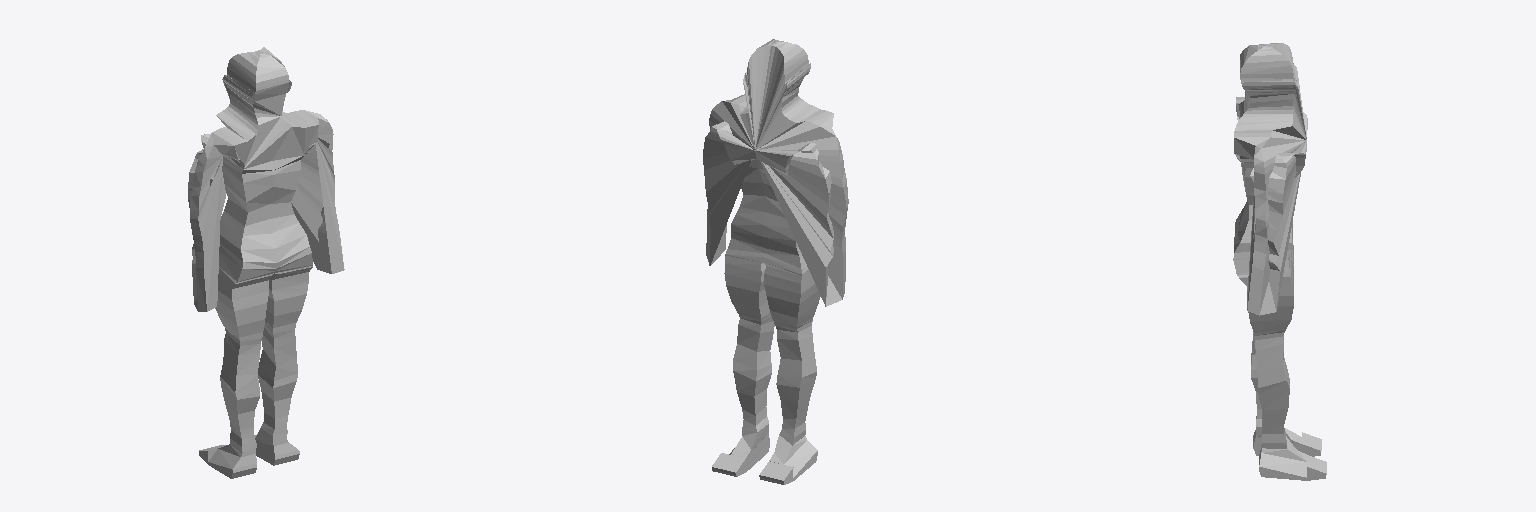
Rendered from woman_000044.obj.
3 renders of one model, left to right at view 1: azimuth 30°, elevation 25°; view 2: azimuth 150°, elevation 25°; view 3: azimuth 270°, elevation 25°, orthographic.
Visible parts, largest first — view 1: Cube_Cube.001; view 2: Cube_Cube.001; view 3: Cube_Cube.001.
Part boxes in pixels (x1,y1,x2,y2): Cube_Cube.001: (188,47,344,478); Cube_Cube.001: (703,39,848,484); Cube_Cube.001: (1233,43,1326,480).
Size of the model in its own units: 3.62 by 10 by 2.03.